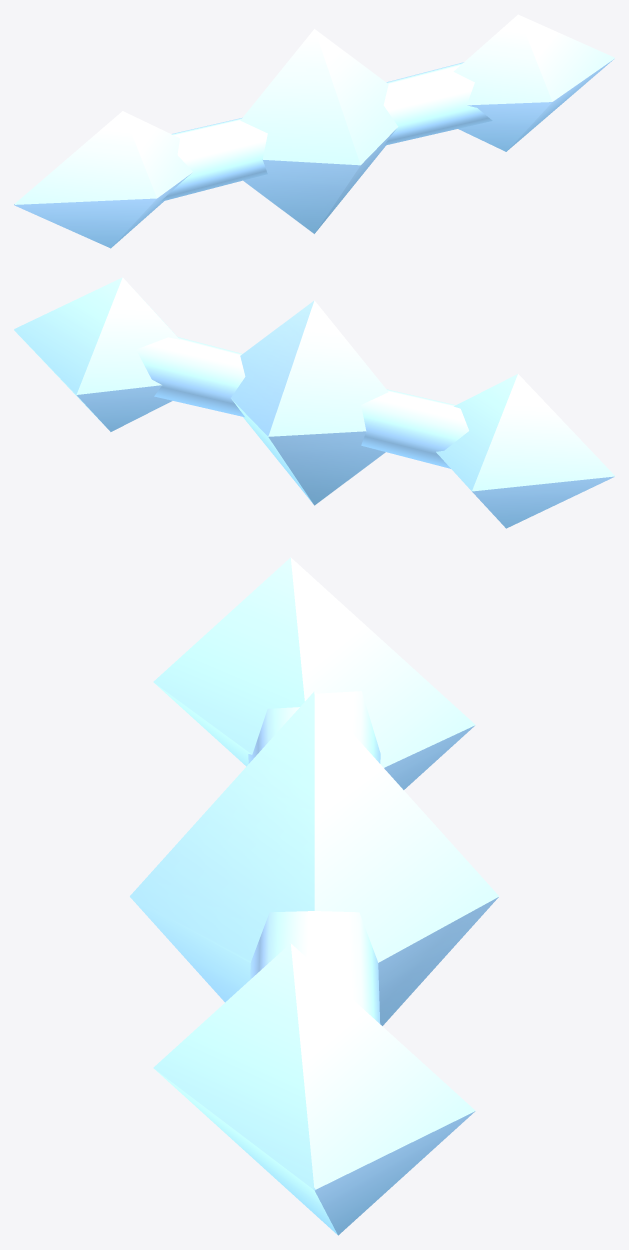
The model's file is steel_guard_047.glb.
The picture shows the model from 3 angles, top to bottom: view 1: azimuth 30°, elevation 25°; view 2: azimuth 150°, elevation 25°; view 3: azimuth 270°, elevation 25°; orthographic projection. The views are drawn at different scales.
Parts seen in each view (by area): view 1: steel_guard_047; view 2: steel_guard_047; view 3: steel_guard_047.
Boxes of the visible parts, left/top/right/bottom form: steel_guard_047: left=14, top=14, right=614, bottom=248; steel_guard_047: left=14, top=277, right=614, bottom=528; steel_guard_047: left=130, top=557, right=498, bottom=1235.
Bounding box in the file's own units: 8.65 × 2.83 × 2.31.
1 material, 1 textured.
